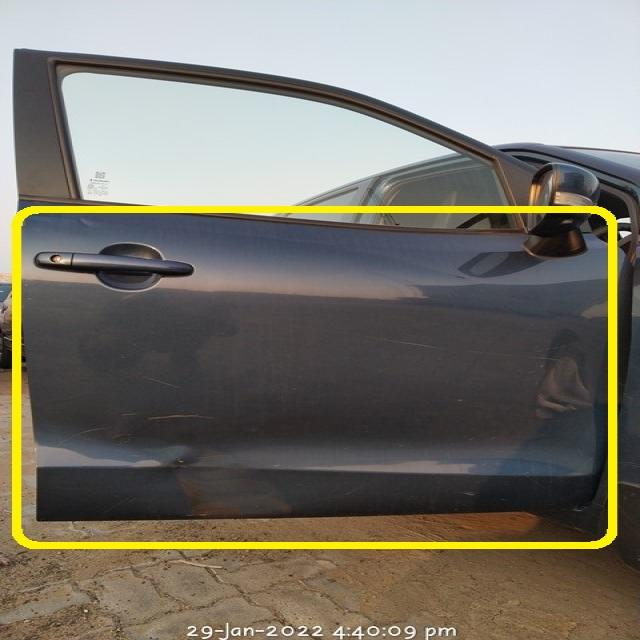damage: (57, 298, 598, 476)
